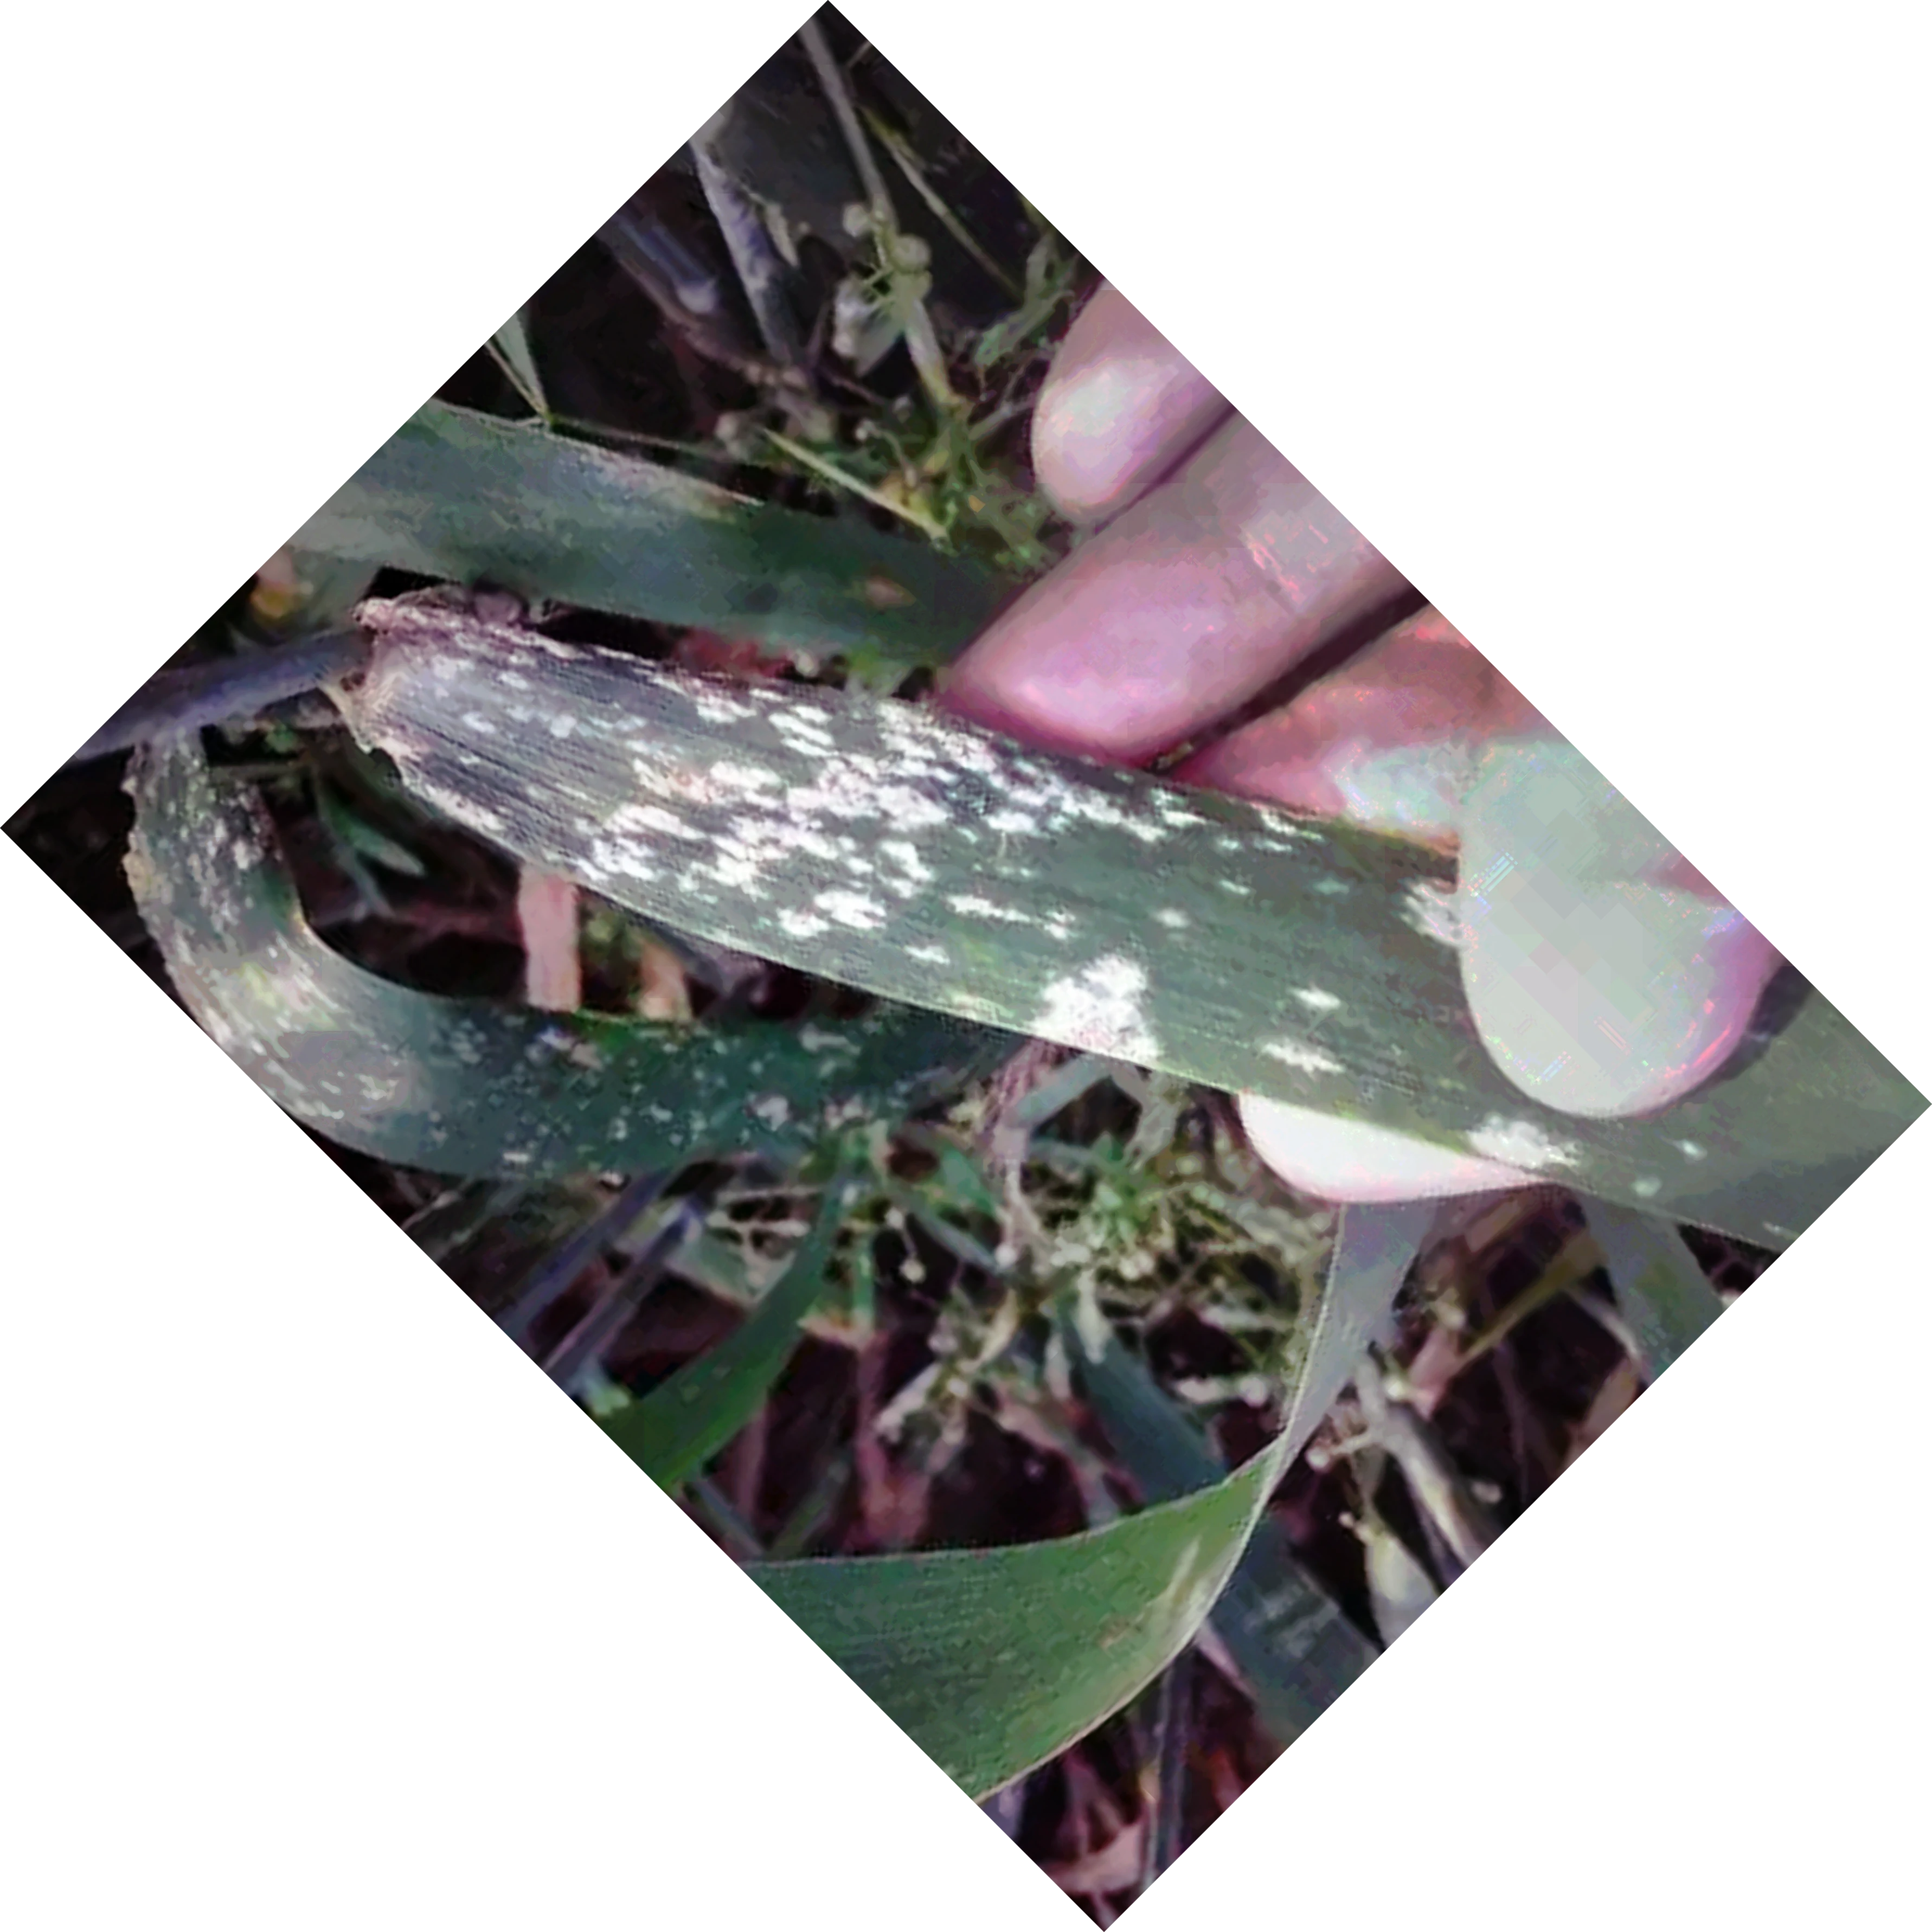Powdery Mildew: (497, 653, 1249, 1035)
